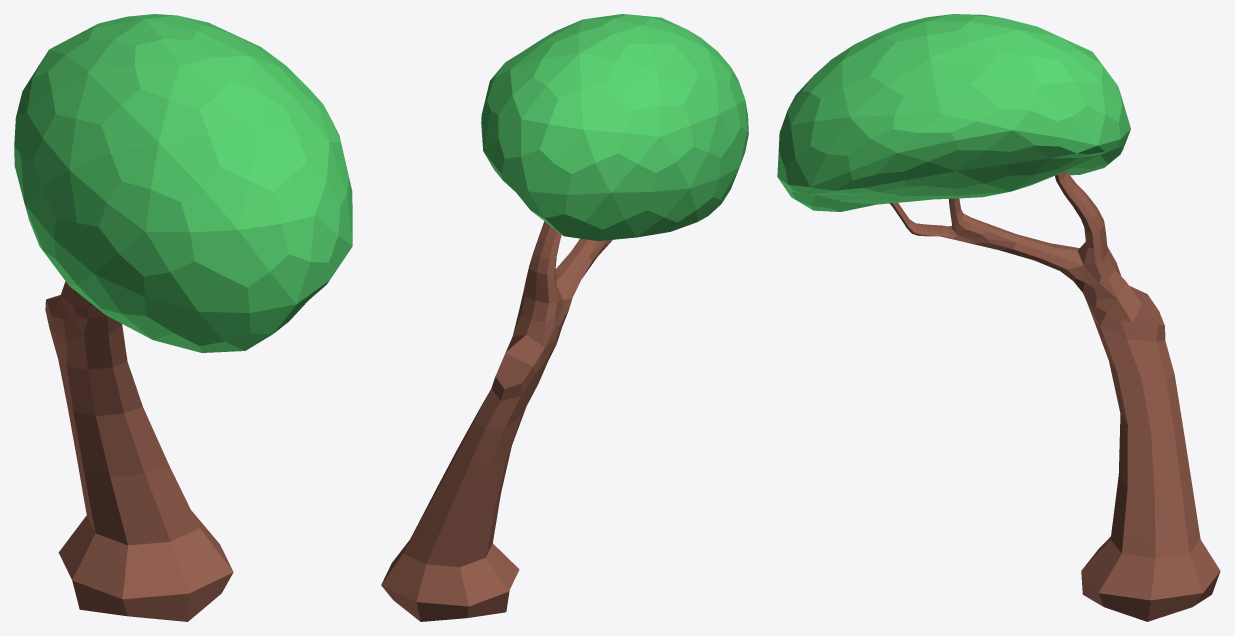
File: Tree5.fbx
3 renders of one model, left to right at view 1: azimuth 30°, elevation 25°; view 2: azimuth 150°, elevation 25°; view 3: azimuth 270°, elevation 25°, orthographic. The views are drawn at different scales.
Parts seen in each view (by area): view 1: Tree4.001; view 2: Tree4.001; view 3: Tree4.001.
Part boxes in pixels (box(x1,y1,x2,y2)): Tree4.001: box(14, 14, 352, 621); Tree4.001: box(381, 14, 748, 621); Tree4.001: box(777, 14, 1220, 621).
Size of the model in its own units: 507 by 1114 by 823.
